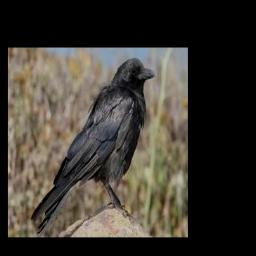Crow: (31, 57, 156, 237)
